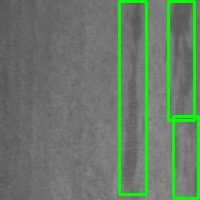inclusion: (119, 1, 146, 194), (168, 1, 194, 120), (173, 116, 198, 198)
